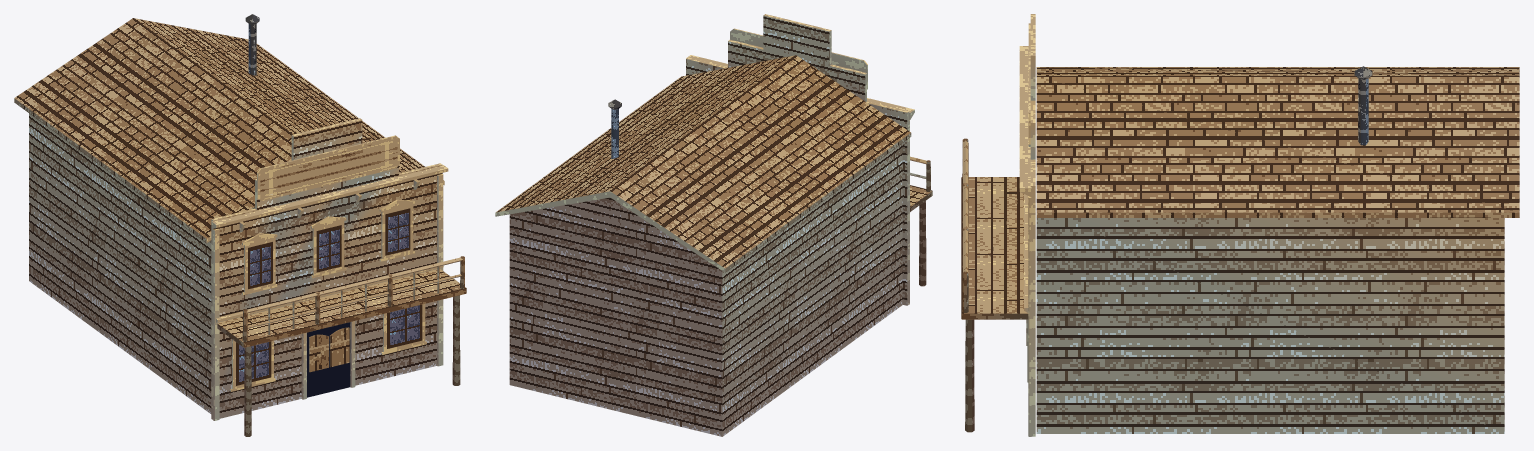
The model's file is wtown.saloon.glb.
3 views of the same model, side by side, from view 1: azimuth 30°, elevation 25°; view 2: azimuth 150°, elevation 25°; view 3: azimuth 270°, elevation 25° (orthographic). The views are drawn at different scales.
Visible parts, largest first — view 1: kit_roof, kit_body, kit_front, kit_card_panes, kit_balcony, kit_trim, kit_windows, kit_door, kit_stovepipe; view 2: kit_body, kit_roof, kit_front, kit_trim, kit_balcony, kit_stovepipe; view 3: kit_body, kit_roof, kit_balcony, kit_trim, kit_front, kit_stovepipe.
Part boxes in pixels (x1,y1,x2,y2): kit_roof: [14, 18, 444, 242]; kit_body: [29, 113, 399, 413]; kit_front: [211, 118, 442, 419]; kit_card_panes: [236, 138, 422, 397]; kit_balcony: [217, 256, 466, 436]; kit_trim: [211, 135, 448, 420]; kit_windows: [230, 199, 426, 391]; kit_door: [309, 327, 349, 372]; kit_stovepipe: [245, 14, 259, 75]; kit_body: [509, 143, 902, 436]; kit_roof: [495, 55, 911, 272]; kit_front: [686, 14, 909, 305]; kit_trim: [686, 28, 914, 304]; kit_balcony: [910, 156, 932, 286]; kit_stovepipe: [608, 99, 621, 158]; kit_body: [1036, 218, 1504, 433]; kit_roof: [1036, 67, 1519, 217]; kit_balcony: [961, 138, 1028, 432]; kit_trim: [1019, 23, 1031, 436]; kit_front: [1030, 14, 1035, 436]; kit_stovepipe: [1354, 66, 1372, 145].
Size of the model in its own units: 8.1 by 8.7 by 13.12.
12 materials, 12 textured.
